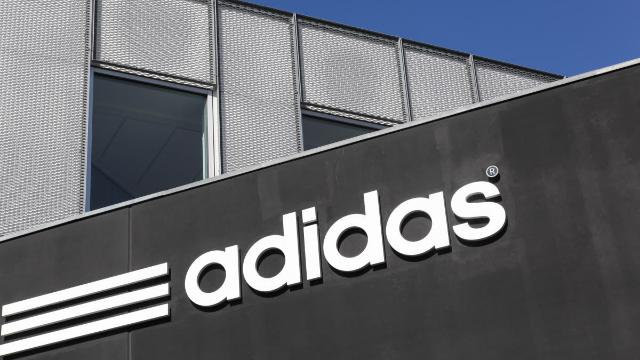Adidas: (171, 140, 533, 335)
